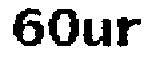0: (47, 8, 79, 51)
6: (11, 4, 45, 51)
r: (116, 12, 143, 50)
u: (80, 14, 113, 52)
